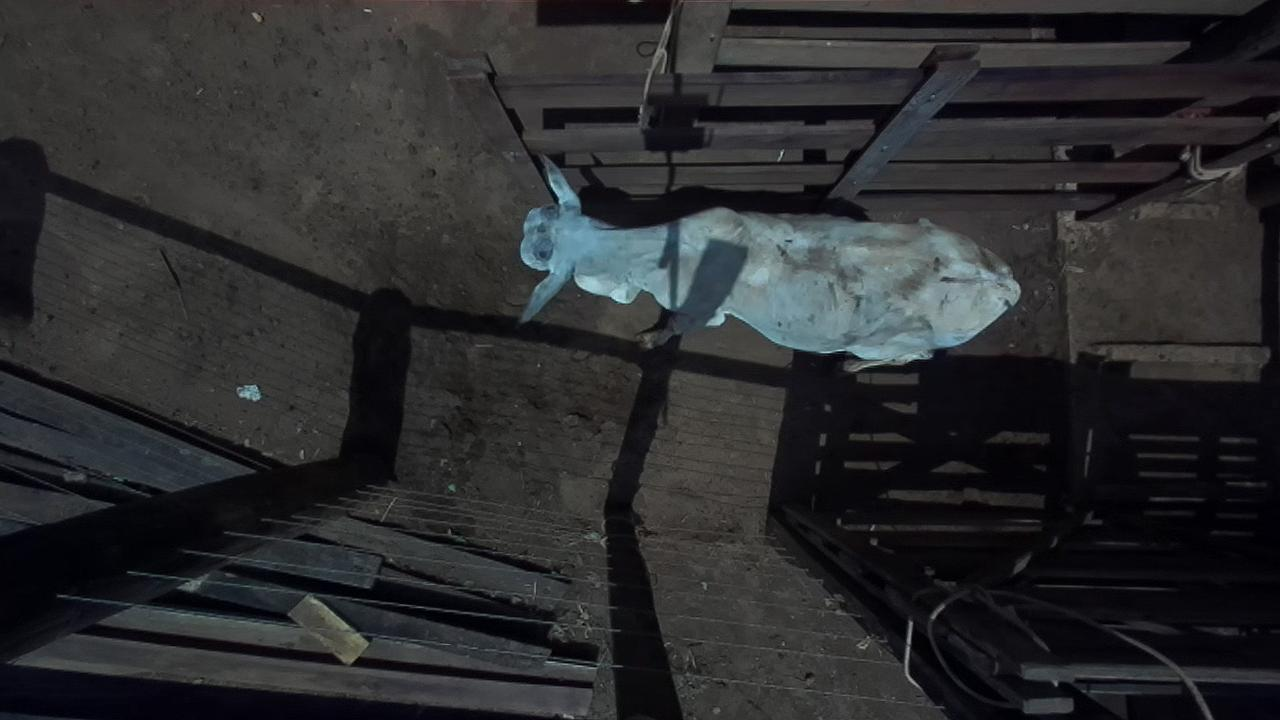cattle: (515, 151, 1021, 365)
